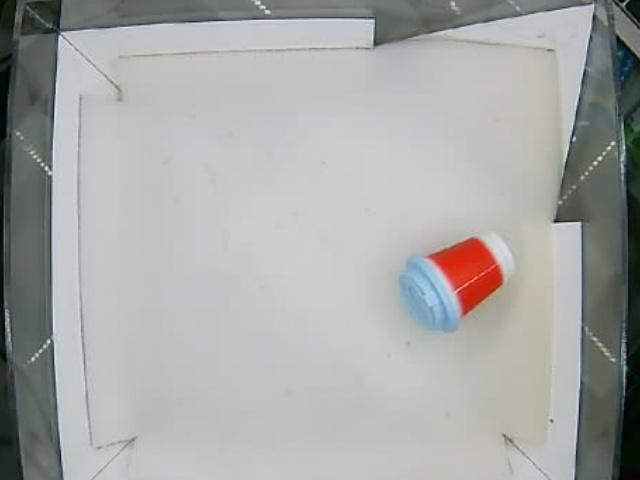Cup: (397, 234, 514, 333)
